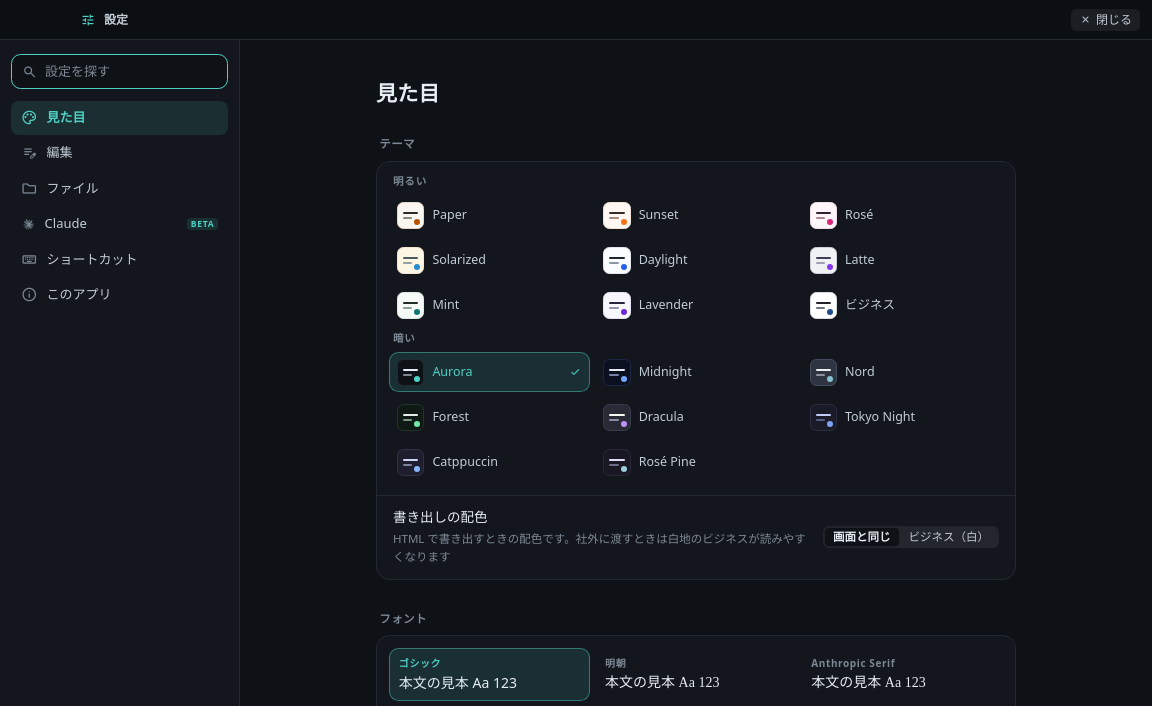
面を責務で分ける › 試験中という面は持たない（熟し具合は札で示す）
Click the button with class "mg-set-tab" showing "編集".
click(120, 153)  # box [11, 136, 228, 170]
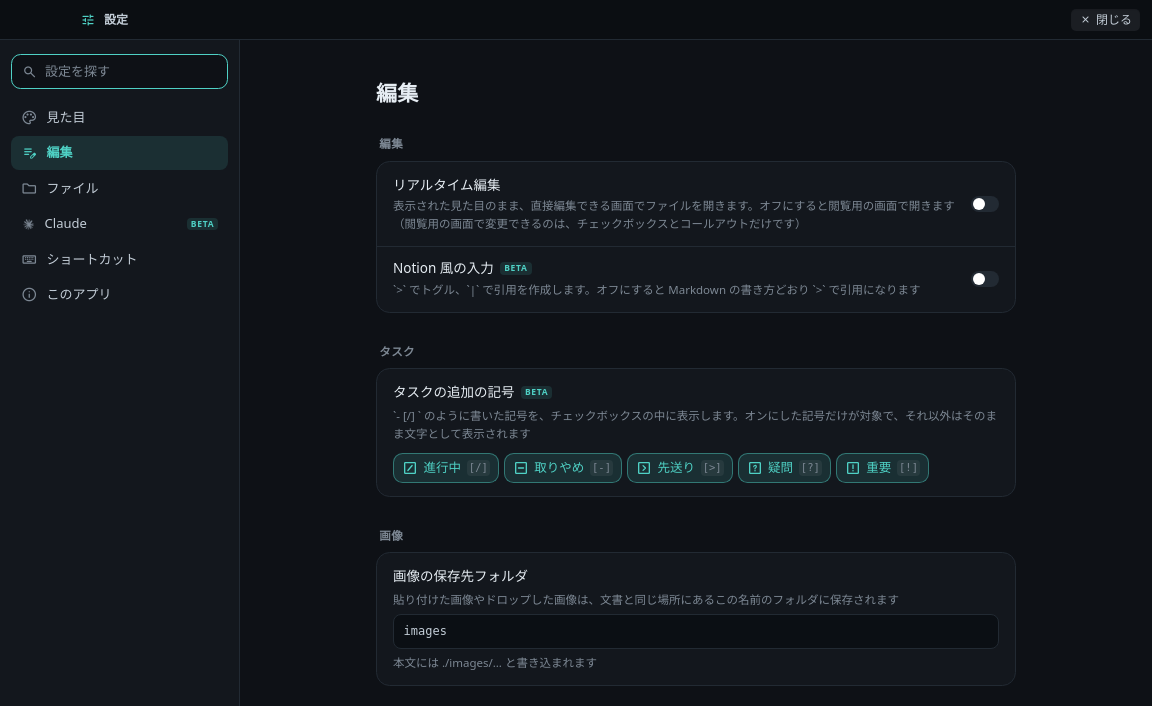
Expected: the 2nd text with class "mg-set-beta" is shown, [500, 262, 532, 275]
